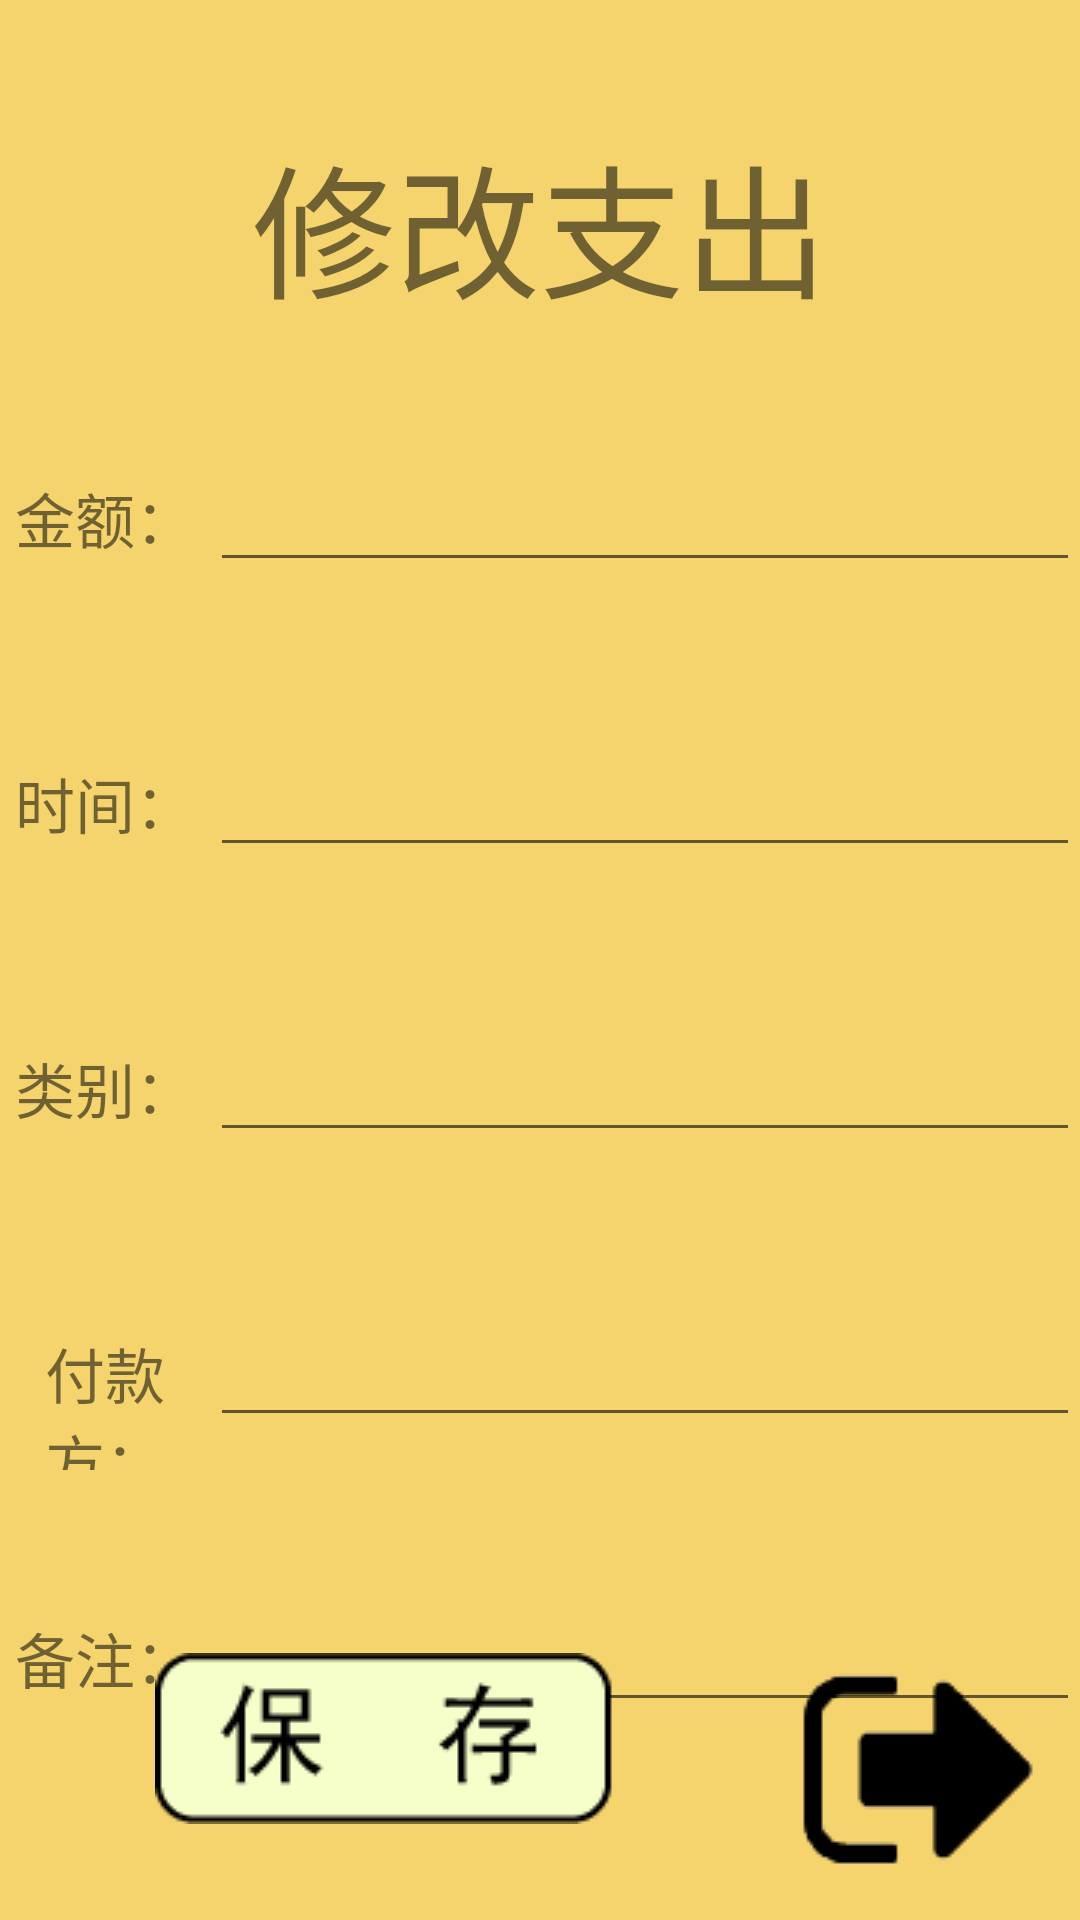

Named icons in this screenshot (1080×1920) and their bounding boxes, (x1, y1, x2, y2):
quit: (768, 1675, 1068, 1864)
